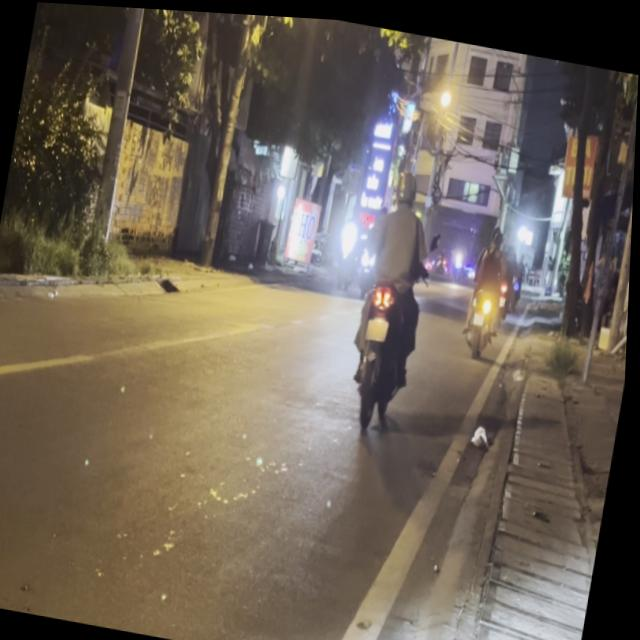helmet: (395, 162, 421, 203)
licenseplate: (338, 154, 448, 431)
nohelmet: (367, 311, 391, 336)
